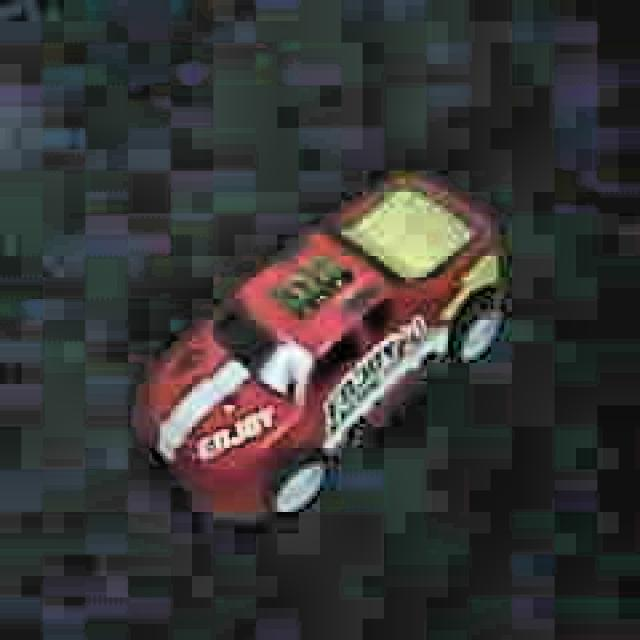car: (127, 166, 512, 535)
